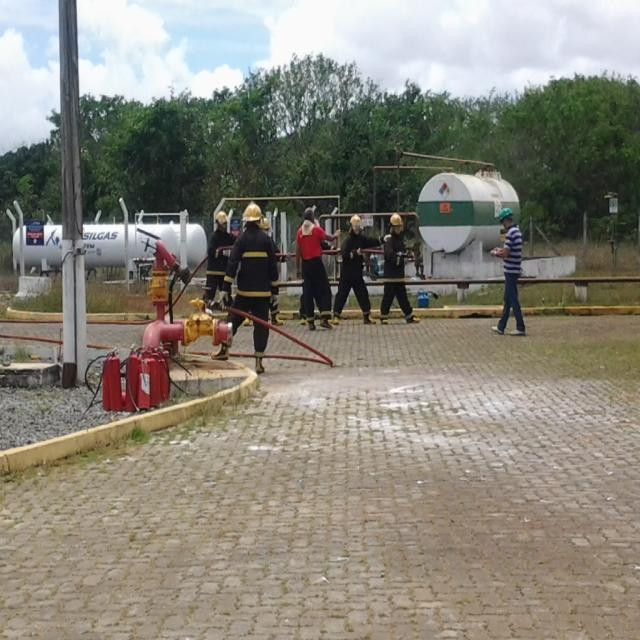no_fire: (7, 33, 573, 640)
